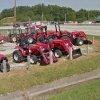Tractor: (9, 29, 83, 73)
